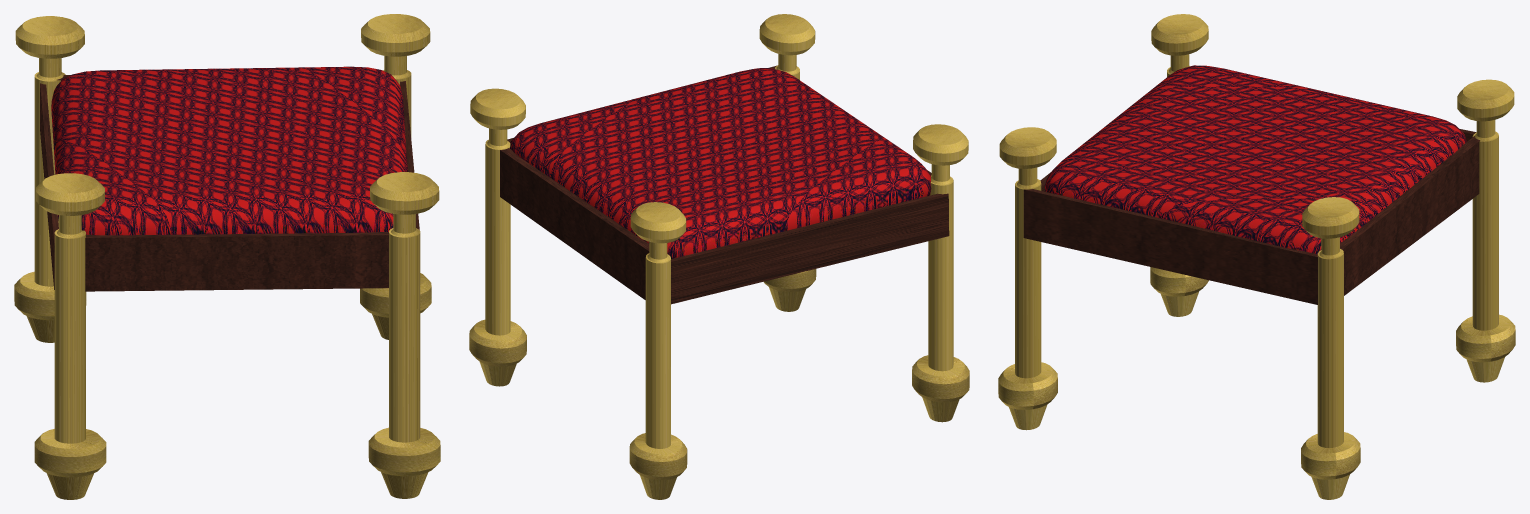
File: little seat.fbx
3 renders of one model, left to right at view 1: azimuth 30°, elevation 25°; view 2: azimuth 150°, elevation 25°; view 3: azimuth 270°, elevation 25°, orthographic. The views are drawn at different scales.
Visible parts, largest first — view 1: polySurface523, polySurface515, polySurface518, polySurface514, polySurface521, polySurface522, polySurface520, polySurface516; view 2: polySurface523, polySurface520, polySurface521, polySurface522, polySurface518, polySurface519, polySurface514; view 3: polySurface523, polySurface516, polySurface522, polySurface521, polySurface514, polySurface519, polySurface518.
Part boxes in pixels (<box>): polySurface523: <box>51,66,407,235</box>; polySurface515: <box>85,232,388,291</box>; polySurface518: <box>34,173,106,499</box>; polySurface514: <box>368,172,440,498</box>; polySurface521: <box>14,16,86,342</box>; polySurface522: <box>360,14,431,339</box>; polySurface520: <box>40,83,58,289</box>; polySurface516: <box>400,81,419,229</box>; polySurface523: <box>510,68,931,258</box>; polySurface520: <box>671,193,949,304</box>; polySurface521: <box>629,202,687,499</box>; polySurface522: <box>469,88,526,386</box>; polySurface518: <box>912,124,969,422</box>; polySurface519: <box>500,148,649,299</box>; polySurface514: <box>759,14,816,311</box>; polySurface523: <box>1044,65,1466,254</box>; polySurface516: <box>1023,189,1317,304</box>; polySurface522: <box>1301,197,1360,499</box>; polySurface521: <box>1456,79,1515,382</box>; polySurface514: <box>998,127,1057,430</box>; polySurface519: <box>1340,136,1480,295</box>; polySurface518: <box>1150,14,1208,316</box>.
Size of the model in its own units: 172 by 109 by 179.
